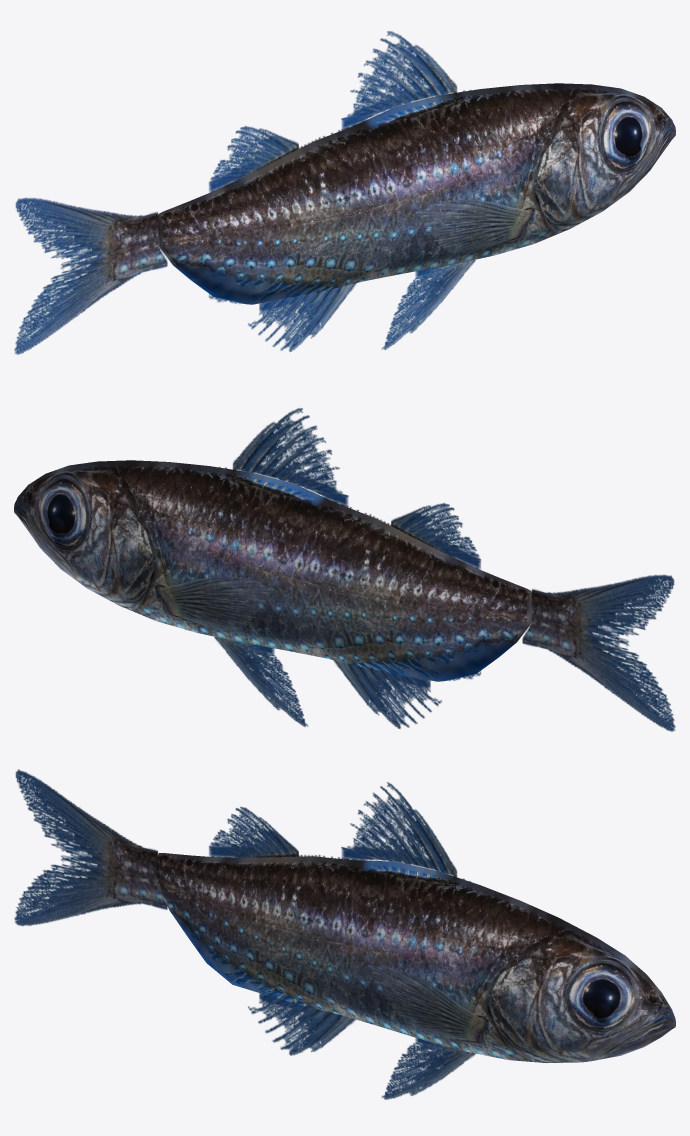
Rendered from ocean-lanternfish.glb.
3 views of the same model, one above another, from view 1: azimuth 30°, elevation 25°; view 2: azimuth 150°, elevation 25°; view 3: azimuth 330°, elevation 25° (orthographic).
Visible parts, largest first — view 1: lanternfish; view 2: lanternfish; view 3: lanternfish.
Boxes of the visible parts, x1=… form: lanternfish: x1=14, y1=31, x2=675, y2=354; lanternfish: x1=14, y1=408, x2=675, y2=731; lanternfish: x1=14, y1=769, x2=675, y2=1099.
Bounding box in the file's own units: 0.0801 × 0.0368 × 0.0107.
1 material, 1 textured.
